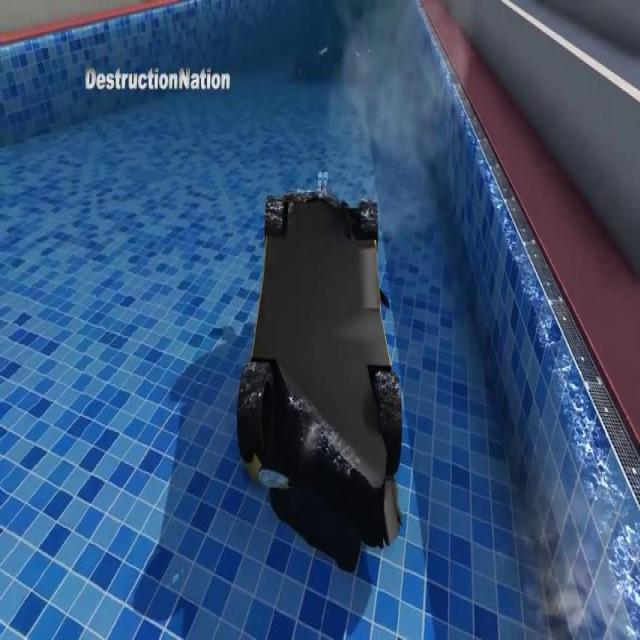severe: (233, 175, 406, 564)
